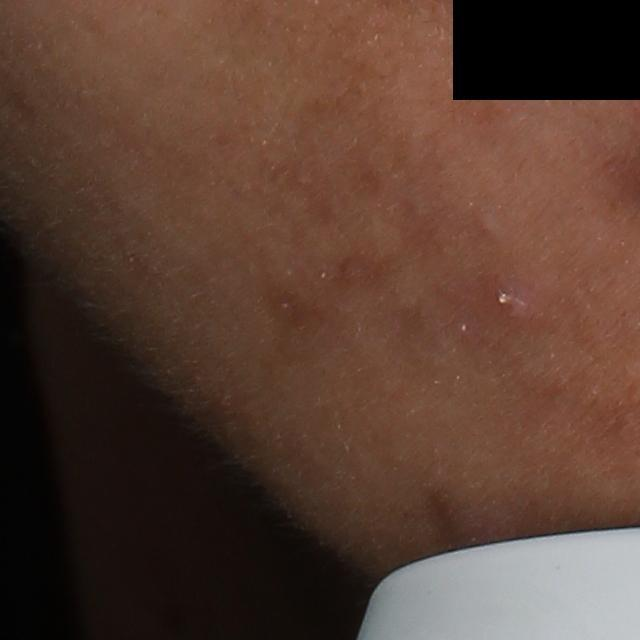comedo: (470, 211, 502, 238)
